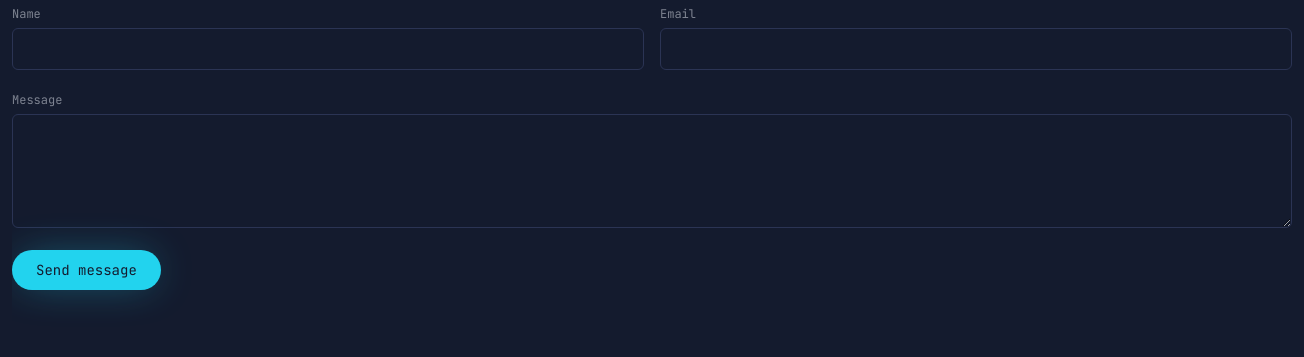
it: ContactForm integration › surfaces the server's error message when the request fails
Step 1. Type "Taylor" into the field labelled "Name" → [328, 49], box [12,28,644,70]
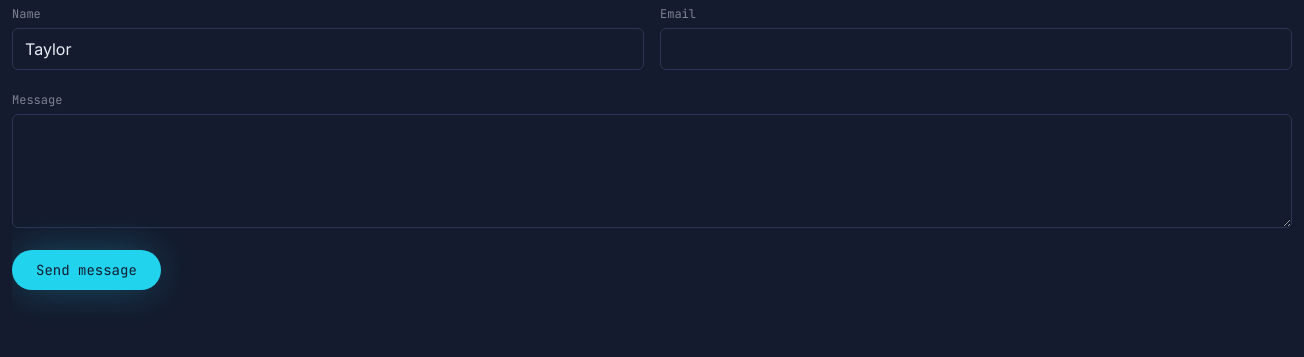
Step 2. Type "taylor@example.com" into the field labelled "Email" → [976, 49], box [660,28,1292,70]
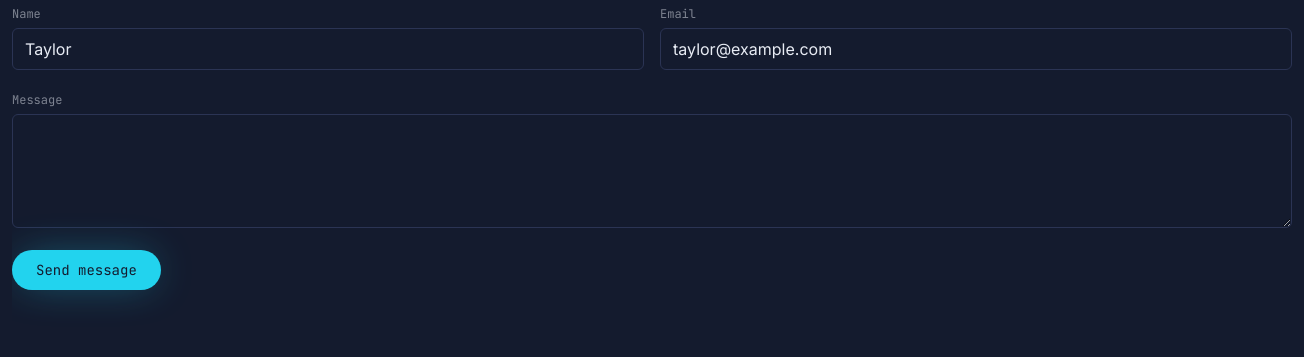
Step 3. Type "Hi" into the text box labelled "Message" → [652, 171], box [12,114,1292,228]
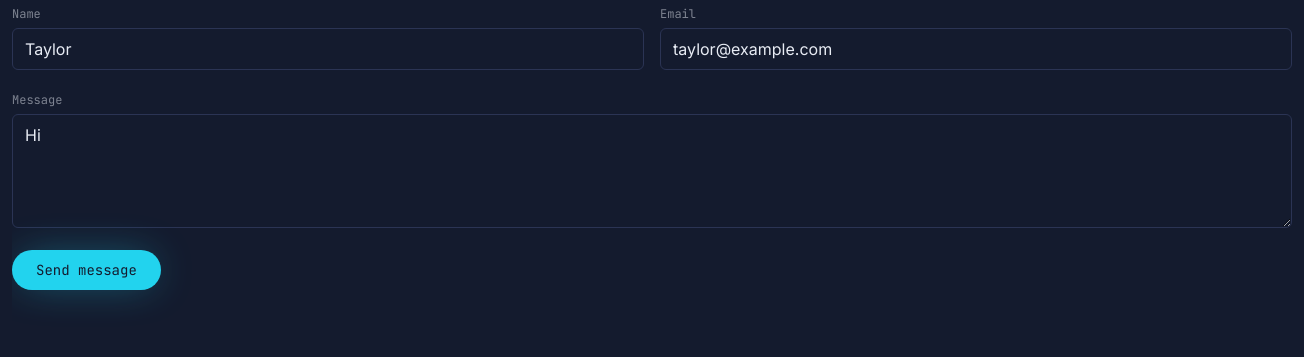
Step 4. Click the button "Send message" → [86, 270], box [12,250,161,290]
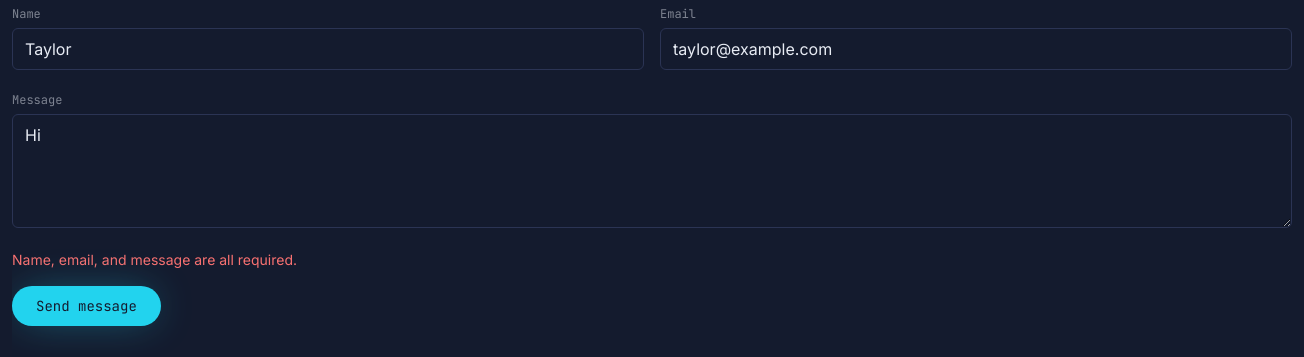
Expected: the text "Name, email, and message are all required." is shown, [12,251,297,268]
